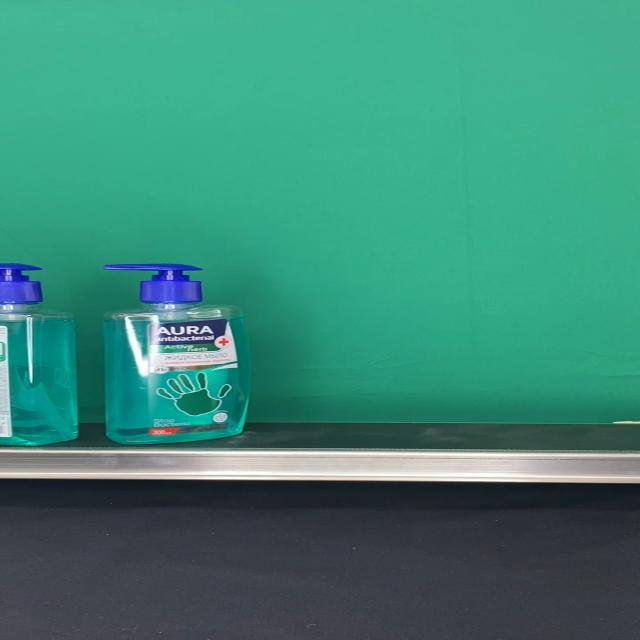Bottle: (102, 262, 254, 444)
Cap: (105, 262, 202, 304)
